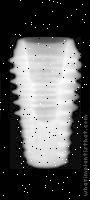Hiossen: (5, 36, 82, 170)
